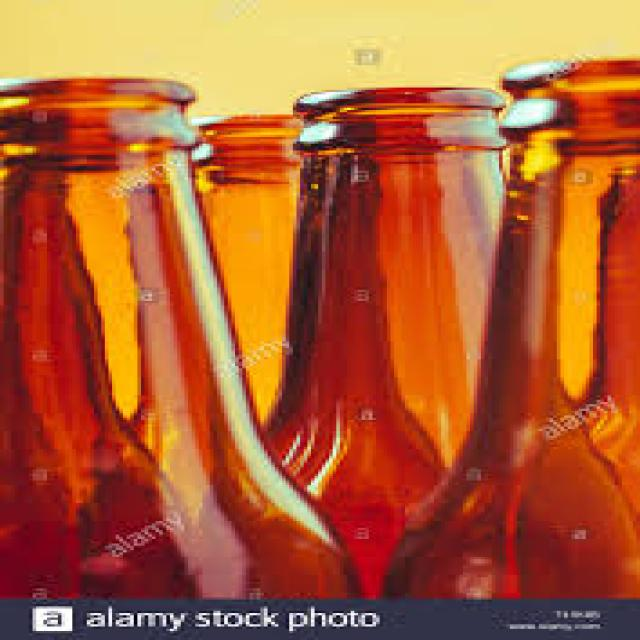glass: (0, 74, 354, 597), (376, 56, 636, 597), (261, 86, 507, 600), (185, 112, 319, 436)
